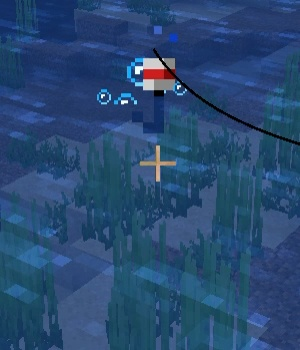up: (131, 47, 177, 136)
